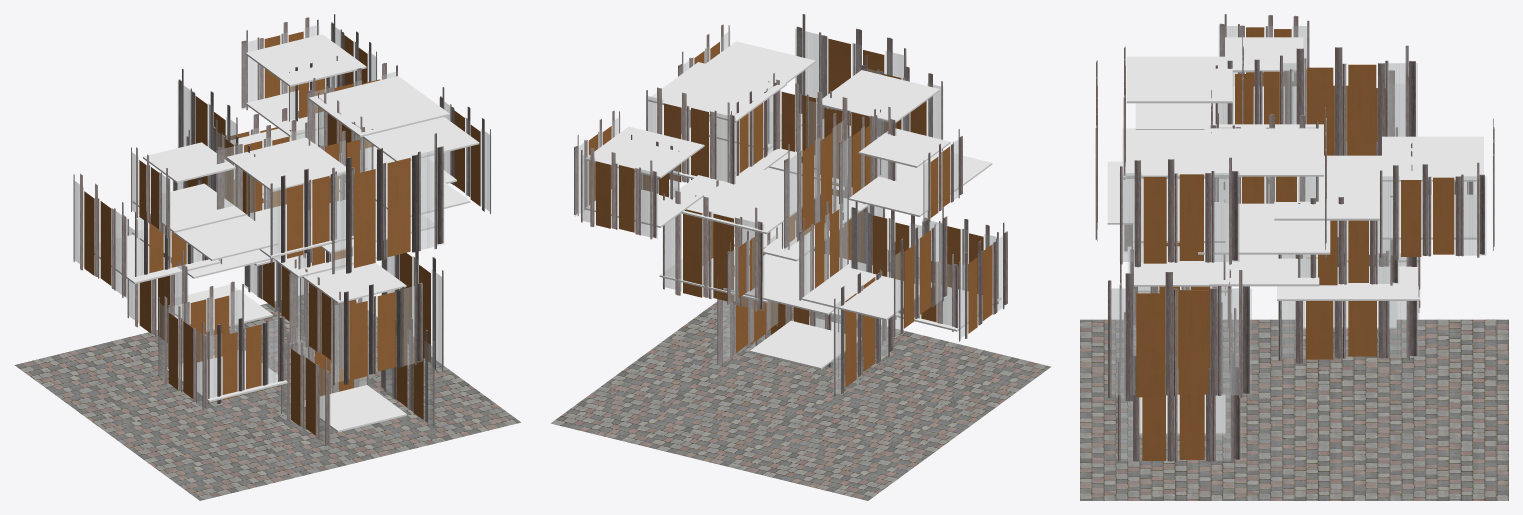
File: Pav_21.glb
3 renders of one model, left to right at view 1: azimuth 30°, elevation 25°; view 2: azimuth 150°, elevation 25°; view 3: azimuth 270°, elevation 25°, orthographic. The views are drawn at different scales.
Parts seen in each view (by area): view 1: floor, GroundPlan, Glaze, Dark, Metal1, Metal2; view 2: GroundPlan, floor, Glaze, Dark, Metal1, Metal2; view 3: GroundPlan, floor, Glaze, Metal1, Dark, Metal2.
Boxes of the visible parts, x1,y1,x2,y2 form: floor: (94,34,479,432); GroundPlan: (14,294,520,500); Glaze: (84,31,480,435); Dark: (74,24,490,446); Metal1: (80,17,484,445); Metal2: (73,14,490,446); GroundPlan: (551,300,1050,500); floor: (585,41,1001,369); Glaze: (588,38,992,387); Dark: (575,29,1006,394); Metal1: (574,24,1007,393); Metal2: (577,14,1004,396); GroundPlan: (1080,319,1508,500); floor: (1107,37,1483,435); Glaze: (1097,27,1454,460); Metal1: (1095,15,1494,461); Dark: (1111,26,1493,460); Metal2: (1096,14,1493,461).
Size of the model in its own units: 16 by 14.6 by 16.
Materials: 5 (3 with a texture image).
